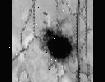good_void: (40, 28, 74, 64)
